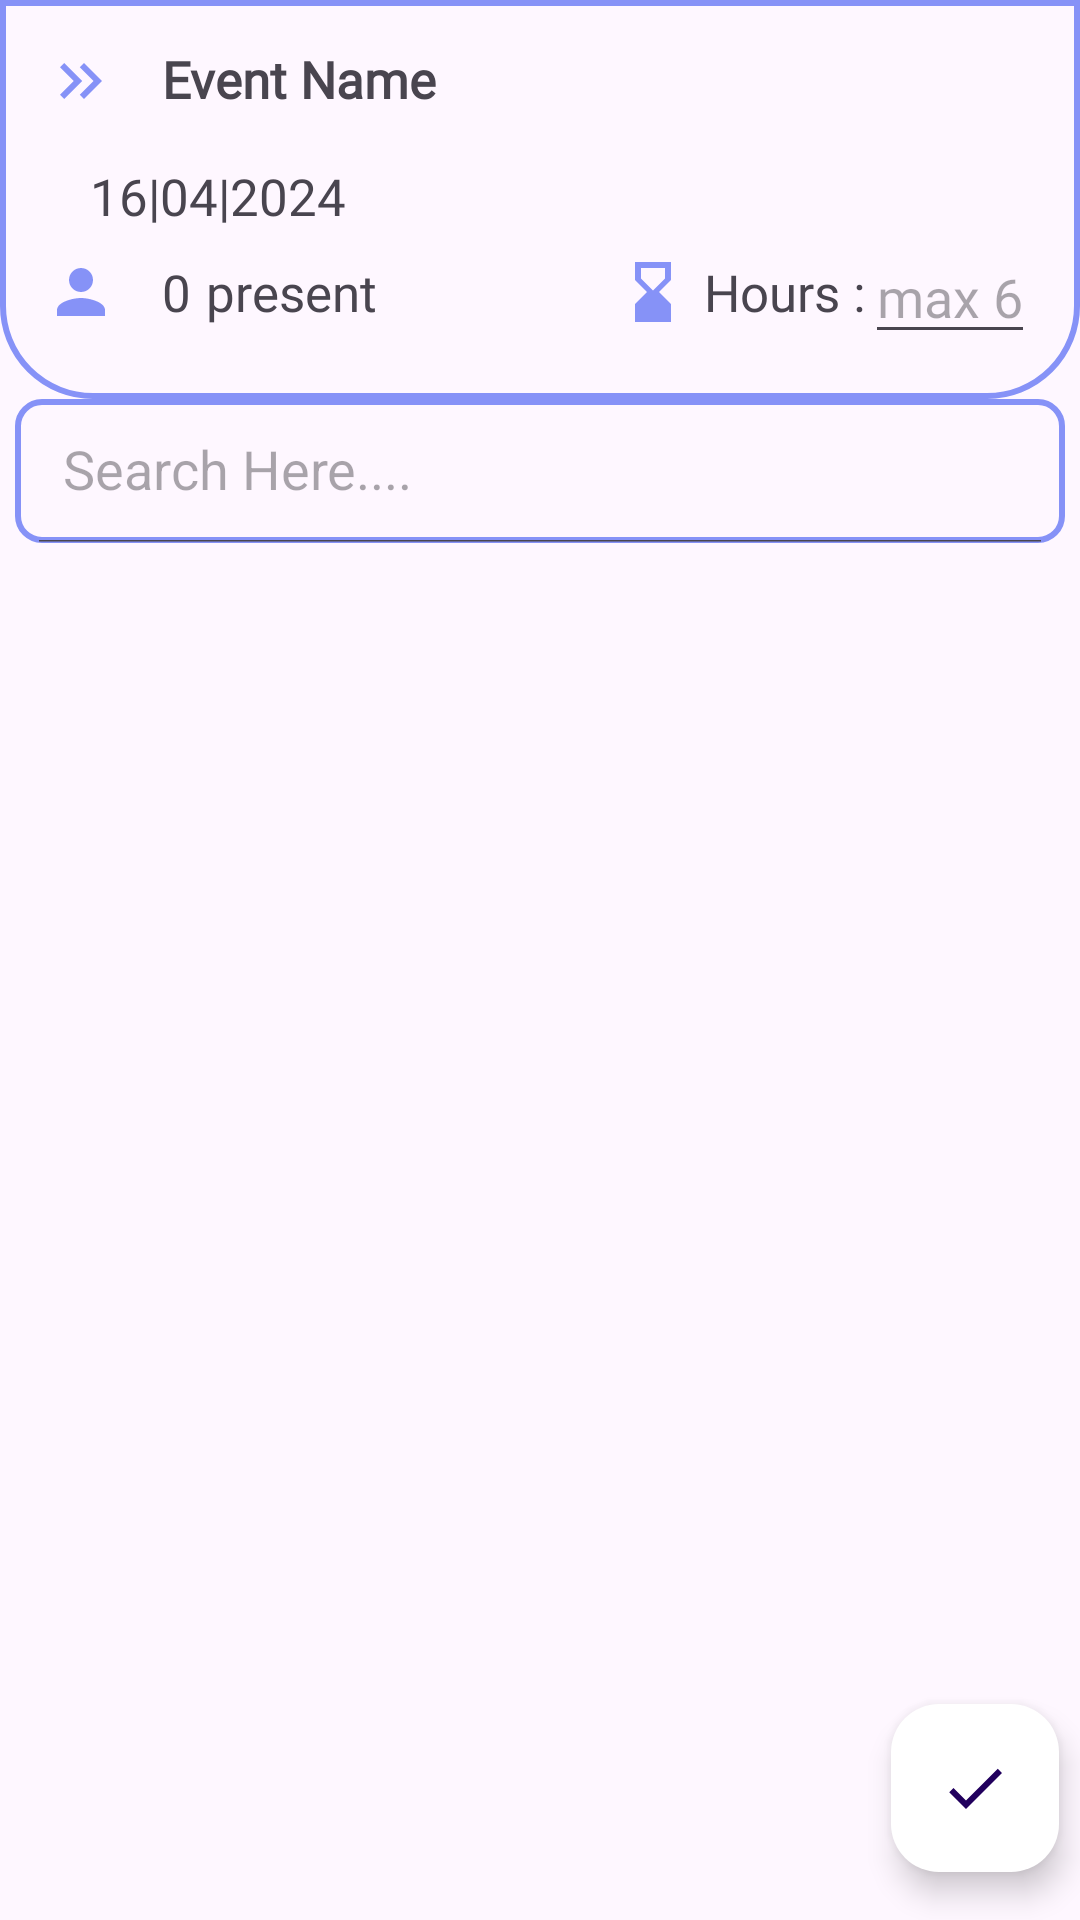

Icon bounding boxes for this 1080×1920 phone screenshot, format (left=x1, top=y1, right=x2, bottom=y2):
keyboard double arrow right: (left=60, top=63, right=102, bottom=99)
person: (left=57, top=268, right=105, bottom=316)
submit: (left=891, top=1704, right=1059, bottom=1872)
